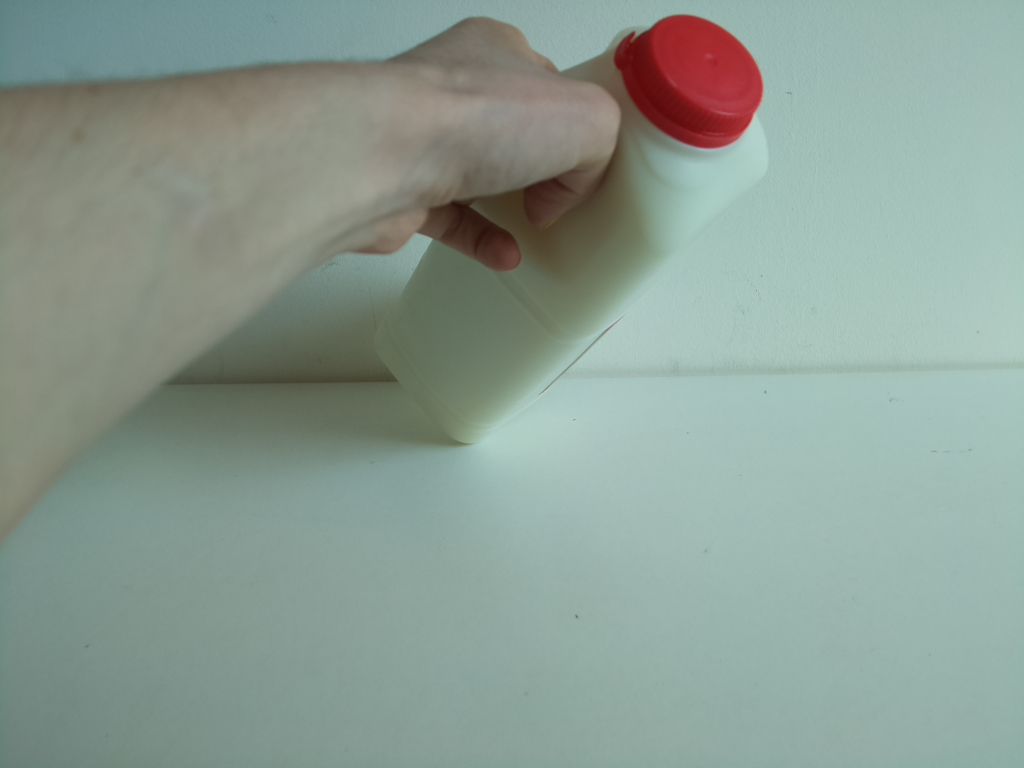milk: (368, 14, 784, 454)
